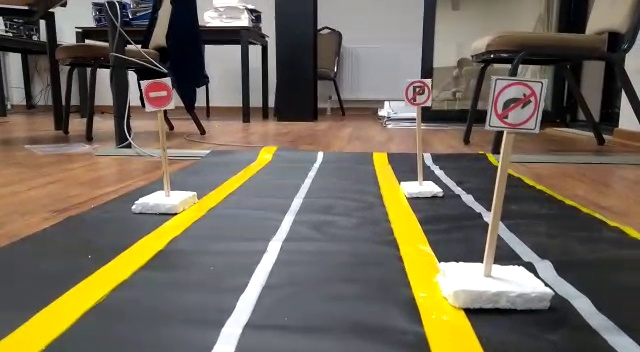girisi_olmayan_yol: (141, 80, 173, 108)
park_yapilmaz: (406, 81, 431, 106)
saga_donulmez: (491, 76, 542, 130)
